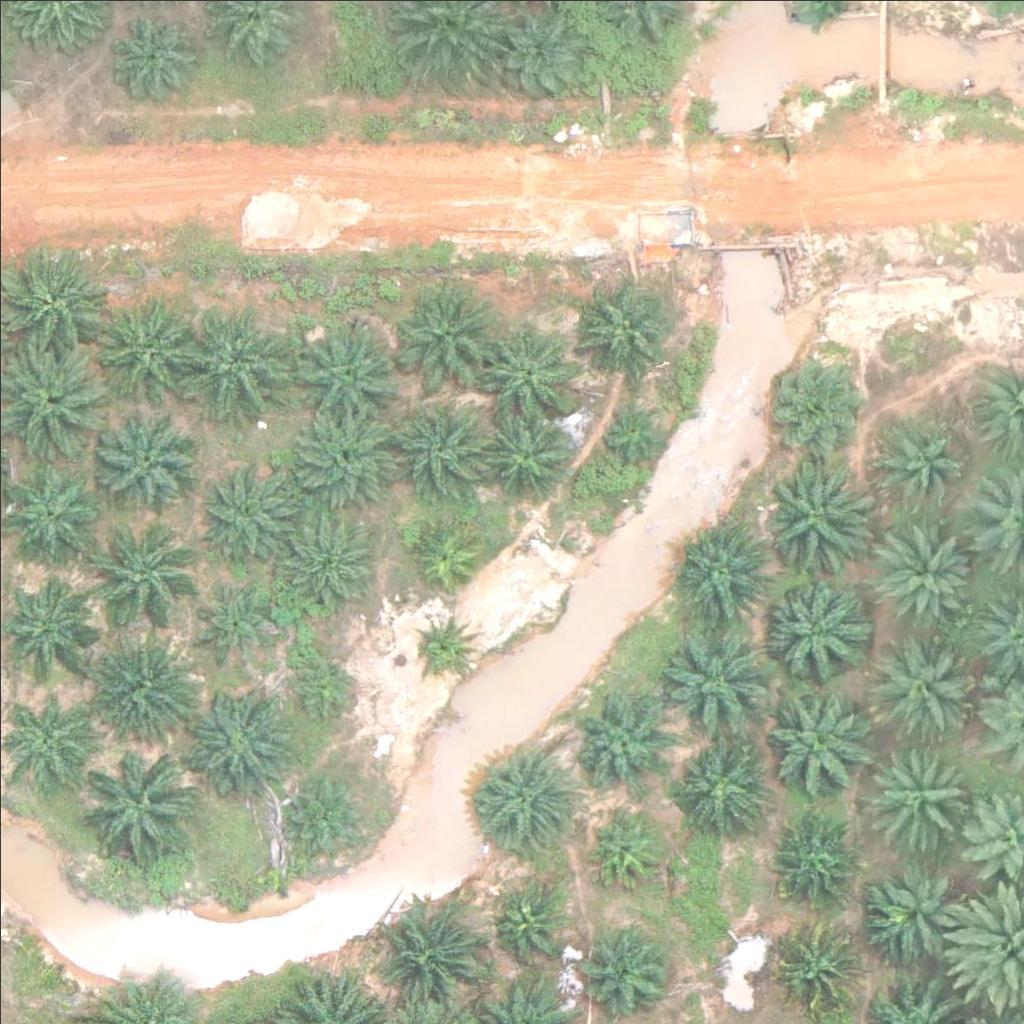Kelapa_Sawit: (80, 753, 193, 866), (186, 680, 299, 793), (288, 402, 401, 515), (291, 314, 404, 427), (389, 275, 502, 388), (660, 629, 773, 742), (759, 685, 872, 798), (755, 574, 868, 687), (82, 521, 194, 635), (184, 304, 296, 418), (94, 286, 206, 399), (91, 625, 203, 738), (757, 462, 869, 575), (102, 6, 202, 107), (494, 6, 594, 107), (1, 571, 101, 672), (99, 409, 199, 510), (199, 458, 299, 559), (391, 392, 491, 493), (476, 401, 576, 502), (674, 520, 774, 621), (574, 275, 674, 376), (766, 347, 866, 448), (869, 740, 969, 841), (874, 628, 974, 729), (878, 520, 978, 621), (1, 468, 101, 568), (384, 904, 484, 1004), (474, 744, 574, 844), (276, 511, 376, 611), (481, 322, 581, 422), (568, 691, 668, 791), (870, 871, 970, 971), (188, 577, 276, 665), (283, 769, 371, 857), (586, 931, 674, 1019), (675, 736, 763, 824), (775, 925, 863, 1013), (2, 688, 89, 776), (773, 817, 860, 905), (873, 415, 960, 503), (587, 812, 662, 888), (492, 887, 567, 962), (284, 651, 359, 726), (408, 513, 483, 588), (593, 389, 668, 464), (411, 612, 474, 675)
